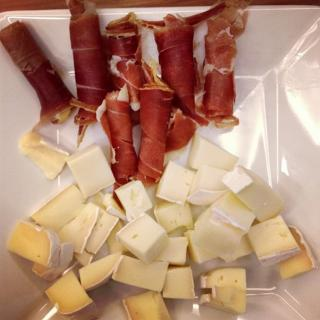Cheese: (4, 128, 318, 320)
